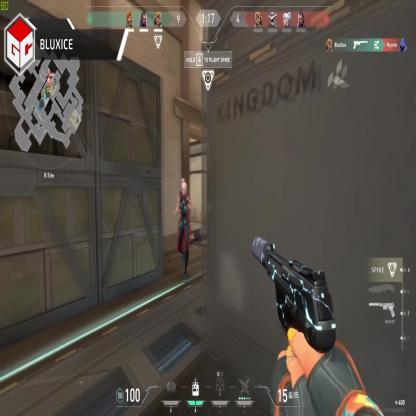enemy: (176, 180, 192, 284)
enemy_head: (180, 180, 186, 197)
